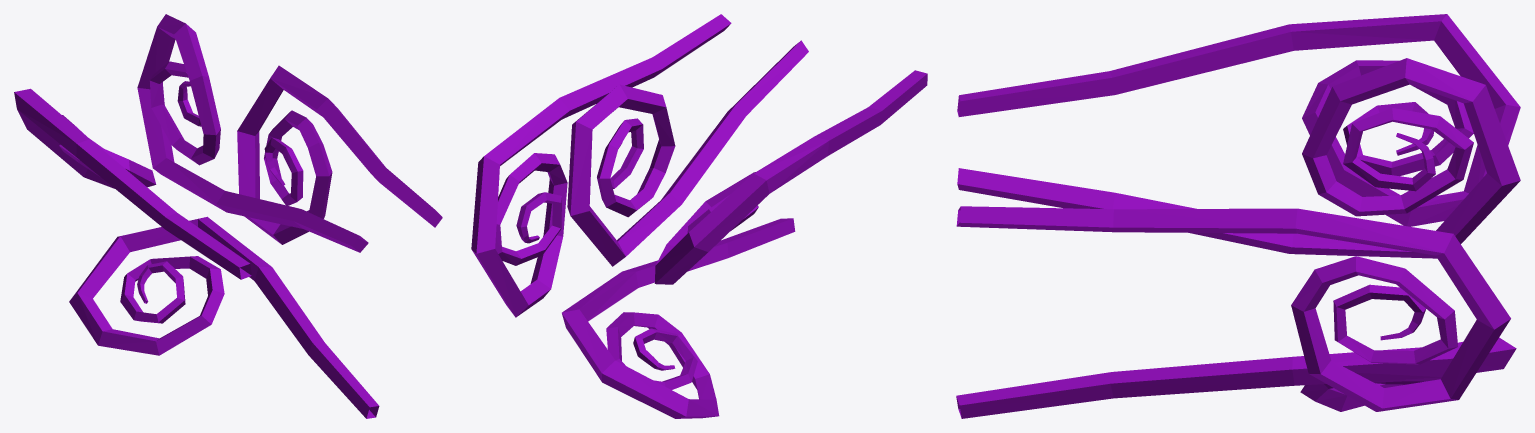
Rendered from Magusa.fbx.
The picture shows the model from 3 angles, left to right: view 1: azimuth 30°, elevation 25°; view 2: azimuth 150°, elevation 25°; view 3: azimuth 270°, elevation 25°; orthographic projection. The views are drawn at different scales.
Visible parts, largest first — view 1: ベジエカーブ.003; view 2: ベジエカーブ.003; view 3: ベジエカーブ.003.
Part boxes in pixels (x1,y1,x2,y2): ベジエカーブ.003: [14, 14, 442, 418]; ベジエカーブ.003: [471, 14, 927, 418]; ベジエカーブ.003: [956, 14, 1520, 418].
Size of the model in its own units: 4.17 by 4.32 by 5.72.
